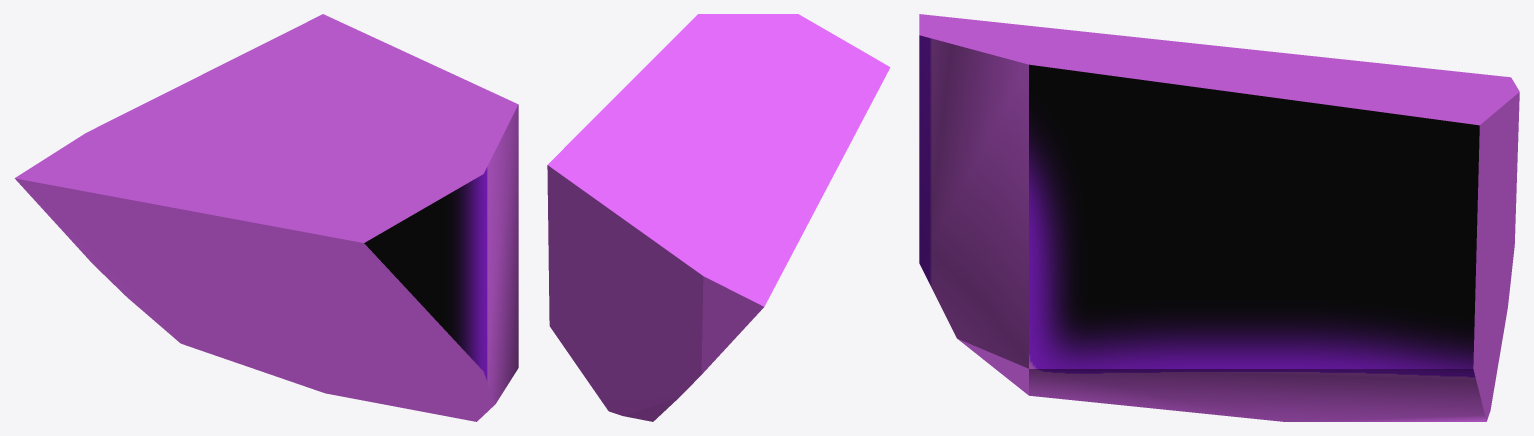
File: blockParticle_11.gltf
3 renders of one model, left to right at view 1: azimuth 30°, elevation 25°; view 2: azimuth 150°, elevation 25°; view 3: azimuth 270°, elevation 25°, orthographic. The views are drawn at different scales.
Visible parts, largest first — view 1: 立方体_cell.012; view 2: 立方体_cell.012; view 3: 立方体_cell.012.
Part boxes in pixels (left/top/right/bottom): 立方体_cell.012: left=14, top=14, right=518, bottom=421; 立方体_cell.012: left=547, top=14, right=890, bottom=421; 立方体_cell.012: left=919, top=14, right=1519, bottom=421.
Bounding box in the file's own units: 0.7586 × 0.8601 × 1.16.
Materials: 2 (2 with a texture image).
